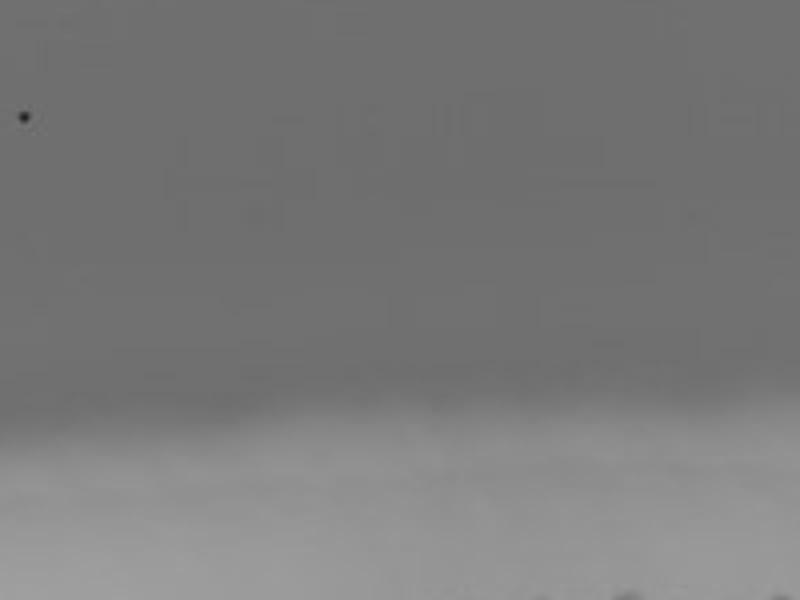defect: (15, 107, 34, 125)
